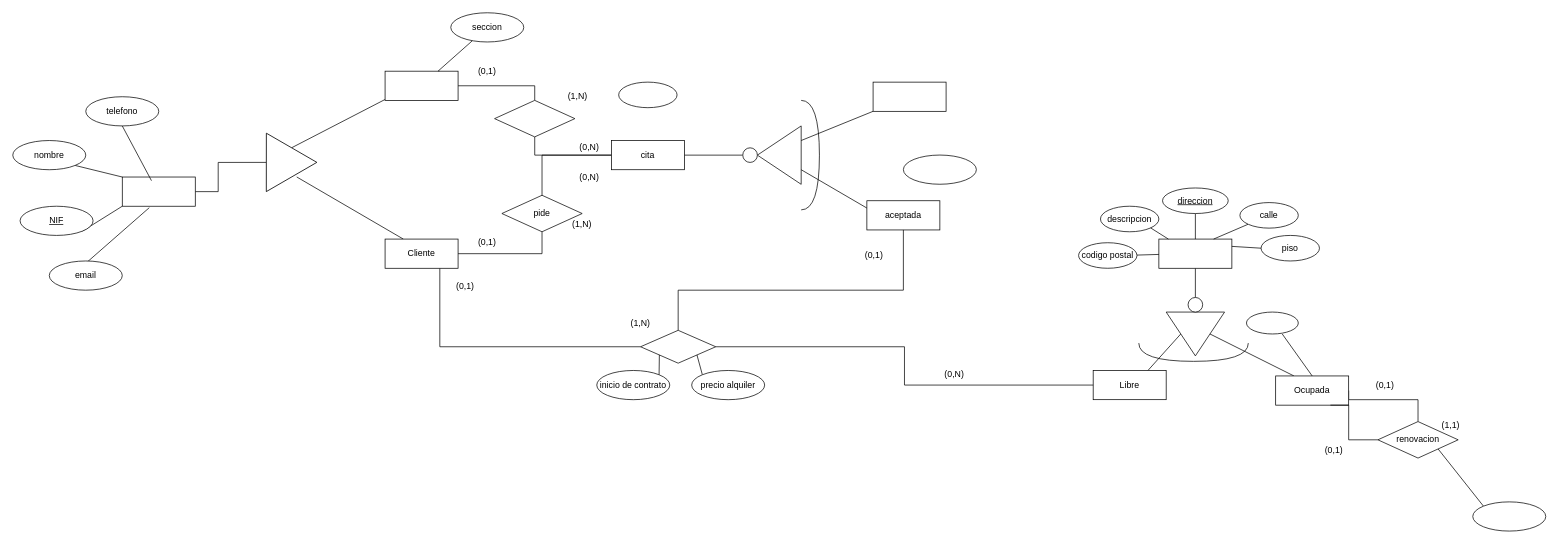
Some shapes in this 1559 by 544 pixel diagram are drawn without their labels. The shapes that lost their labels are listed below. From the top down, each one's centre as x and y in pixels, then its label:
At pixel 421 85: "Empleado".
At pixel 647 94: "cod_cita".
At pixel 909 96: "rechazada".
At pixel 534 118: "revisa".
At pixel 939 169: "fecha_cita".
At pixel 158 191: "Persona".
At pixel 1195 253: "vivienda".
At pixel 1272 322: "inquilino".
At pixel 678 346: "Alquila".
At pixel 1509 516: "Fecha de renovcion".
